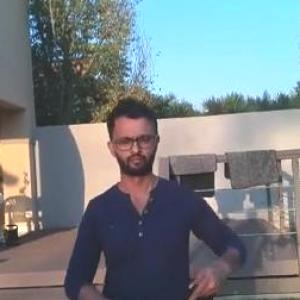follow: (58, 90, 257, 299)
